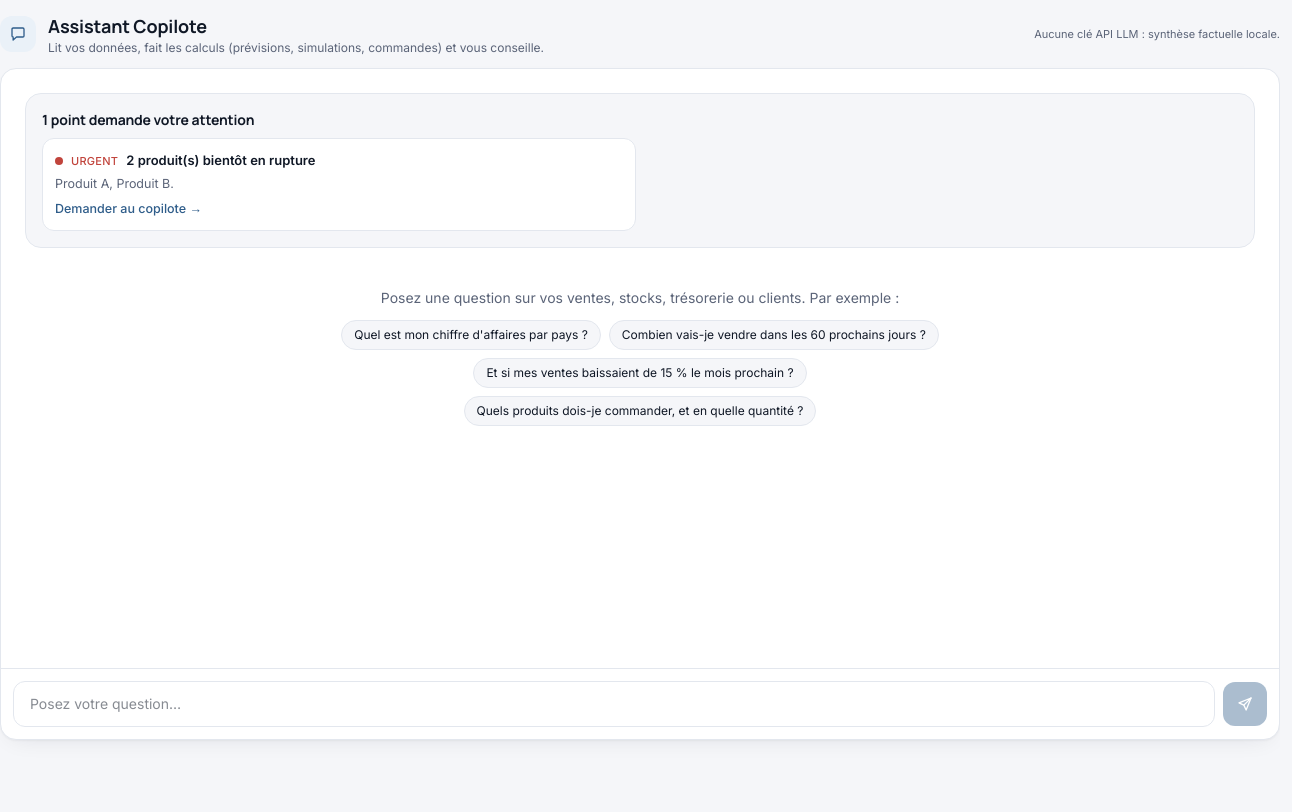
Test: le briefing affiche les points d'attention et permet de poser la question associée
The image size is (1292, 812).
Expected: the element with test id "briefing" shows "1 point demande votre attention", [42,110,254,129]
Click the button "Demander au copilote →".
click(128, 209)  # box [55,200,202,218]
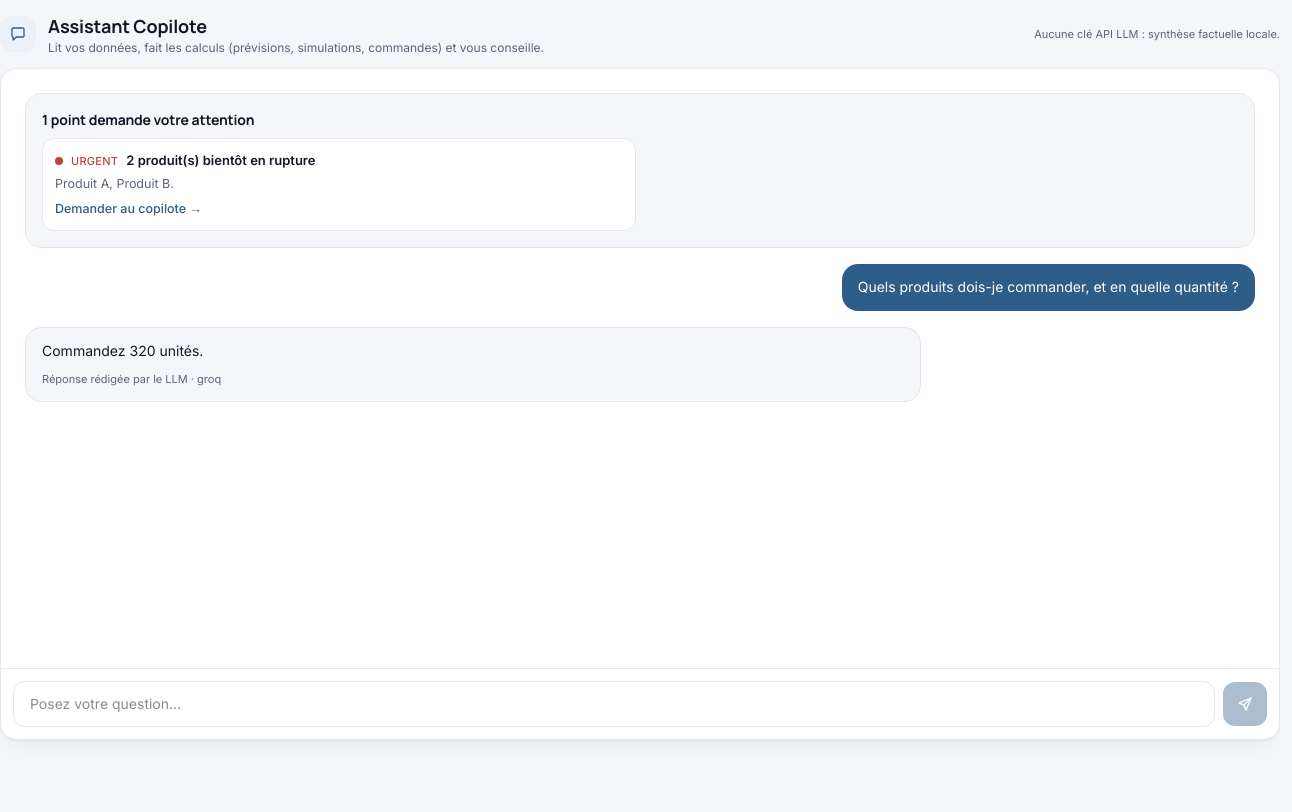
Result: the text "Commandez 320 unités." is shown at [42,342,203,359]
